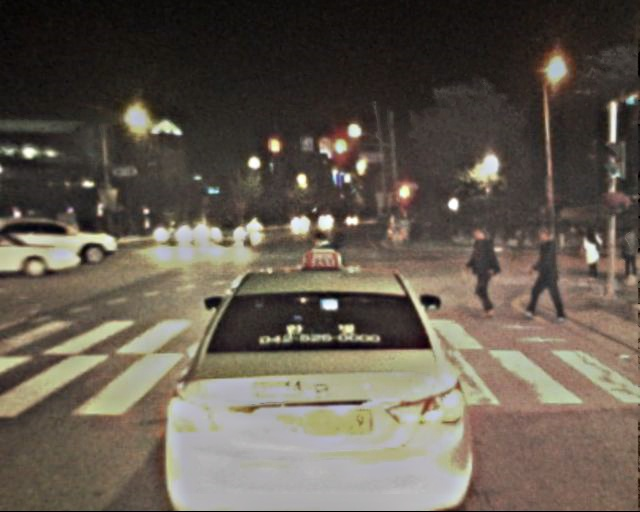person: (528, 229, 571, 333), (314, 233, 355, 334), (466, 225, 506, 322), (581, 224, 606, 285), (616, 227, 640, 286)
